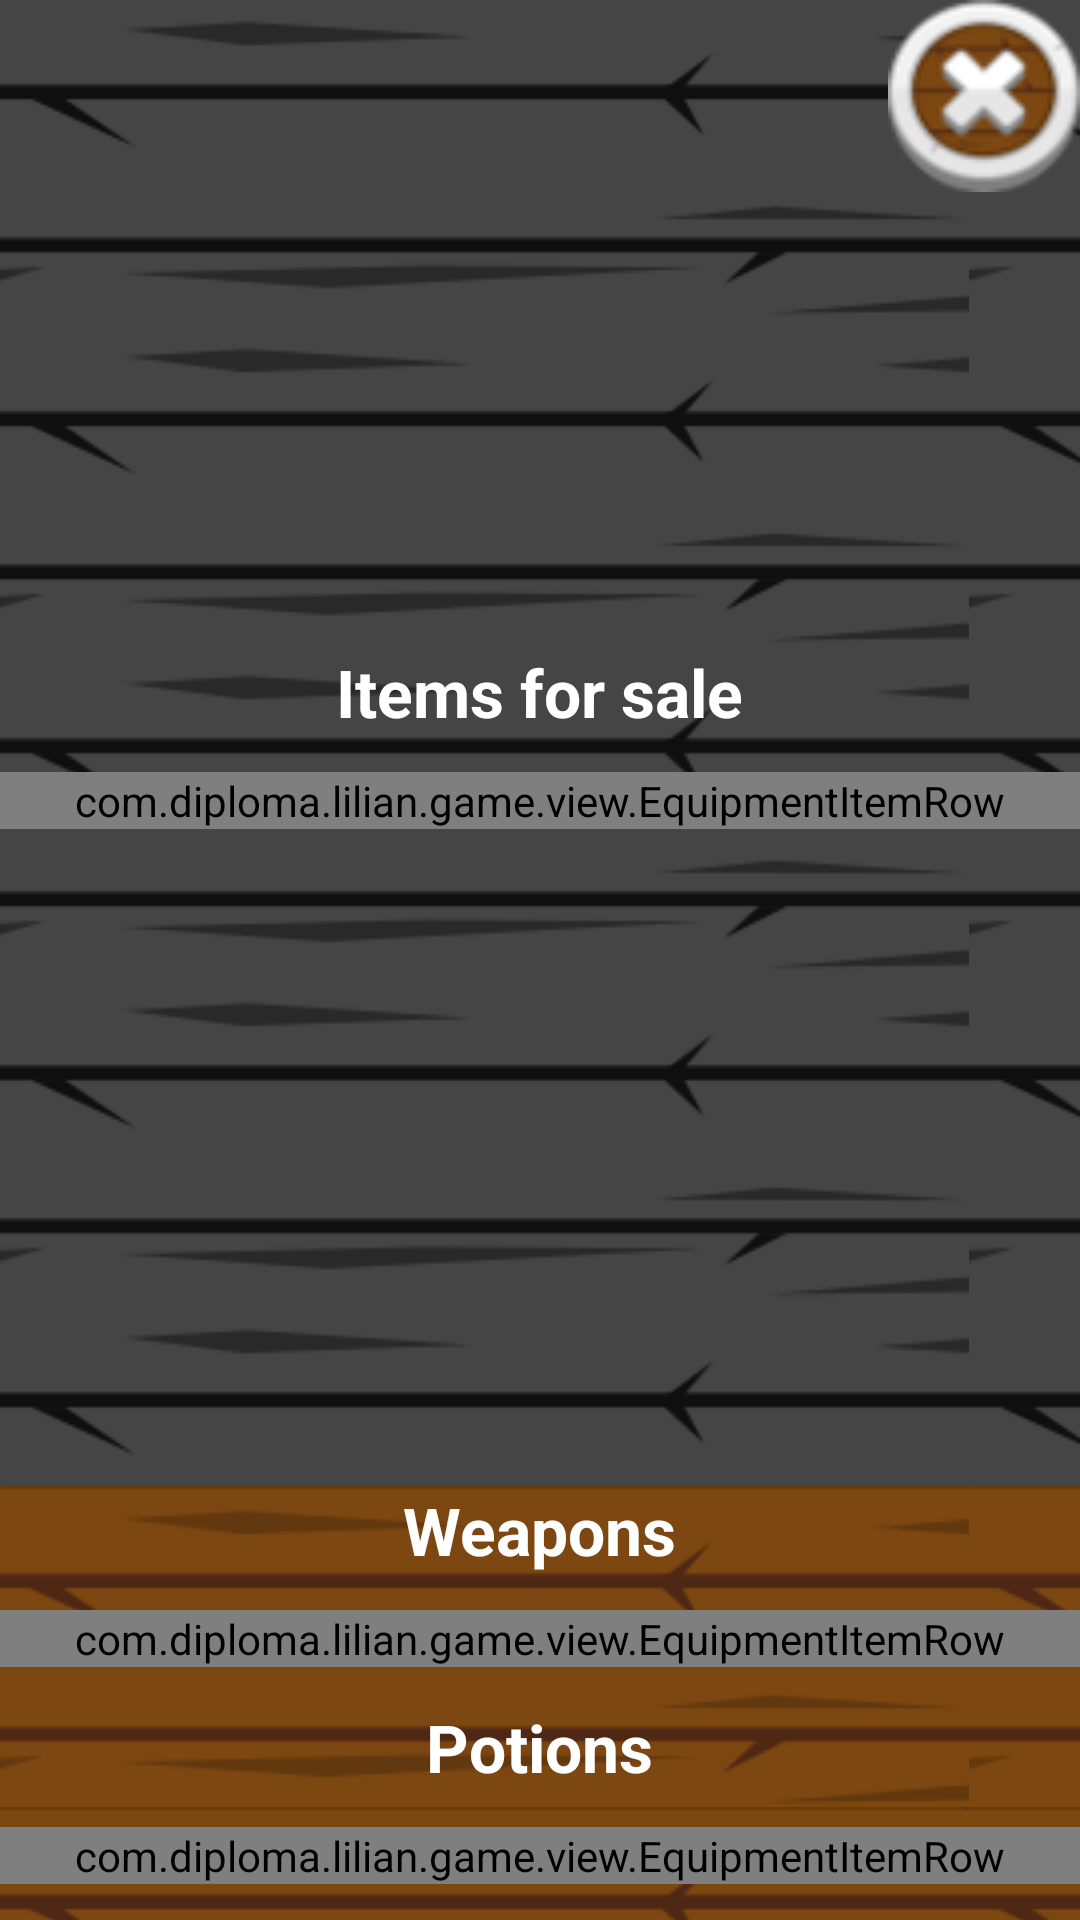

Screen size 1080 × 1920. Icon name, then its box in pixels as (x1, y1, x2, y2):
inventory close: (888, 0, 1080, 192)
